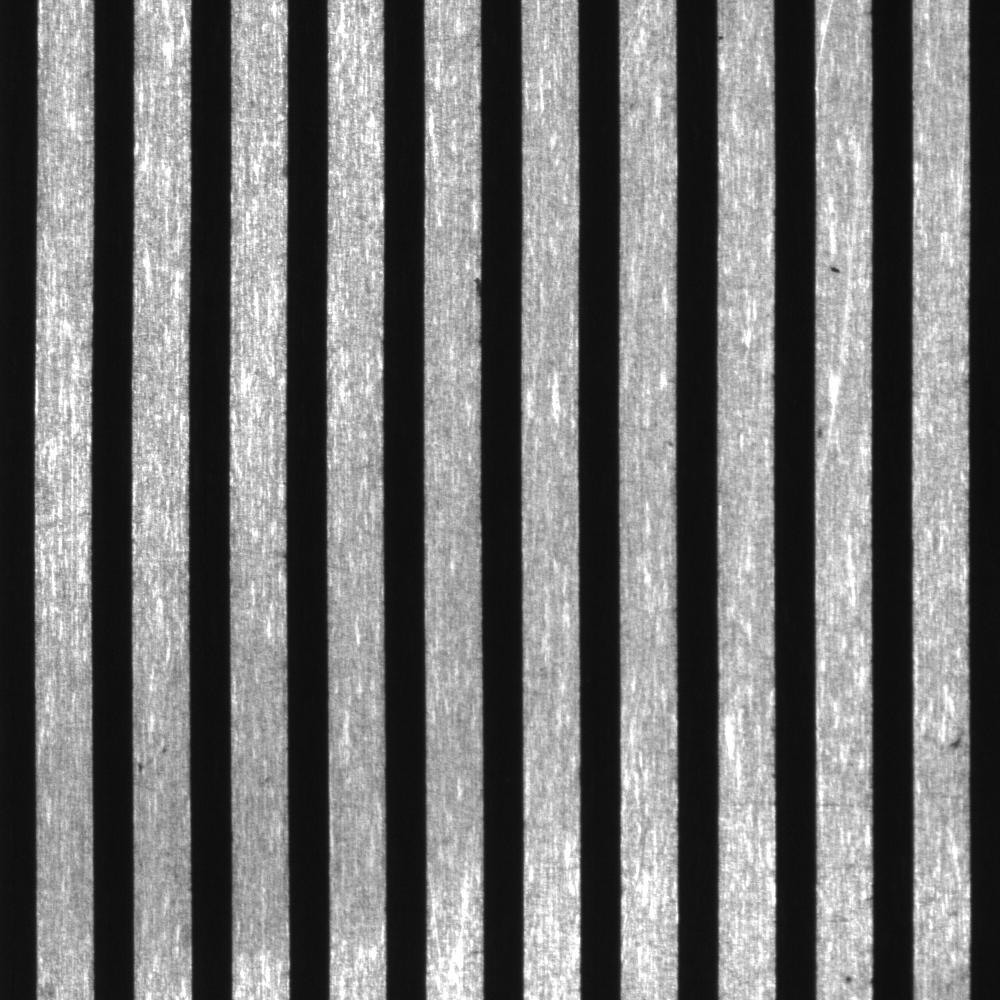Etching: (455, 248, 491, 324), (935, 713, 968, 773), (270, 146, 296, 196), (825, 251, 850, 288)
Pinhole: (827, 955, 863, 997)
Scar: (720, 782, 778, 825), (817, 786, 873, 826)
